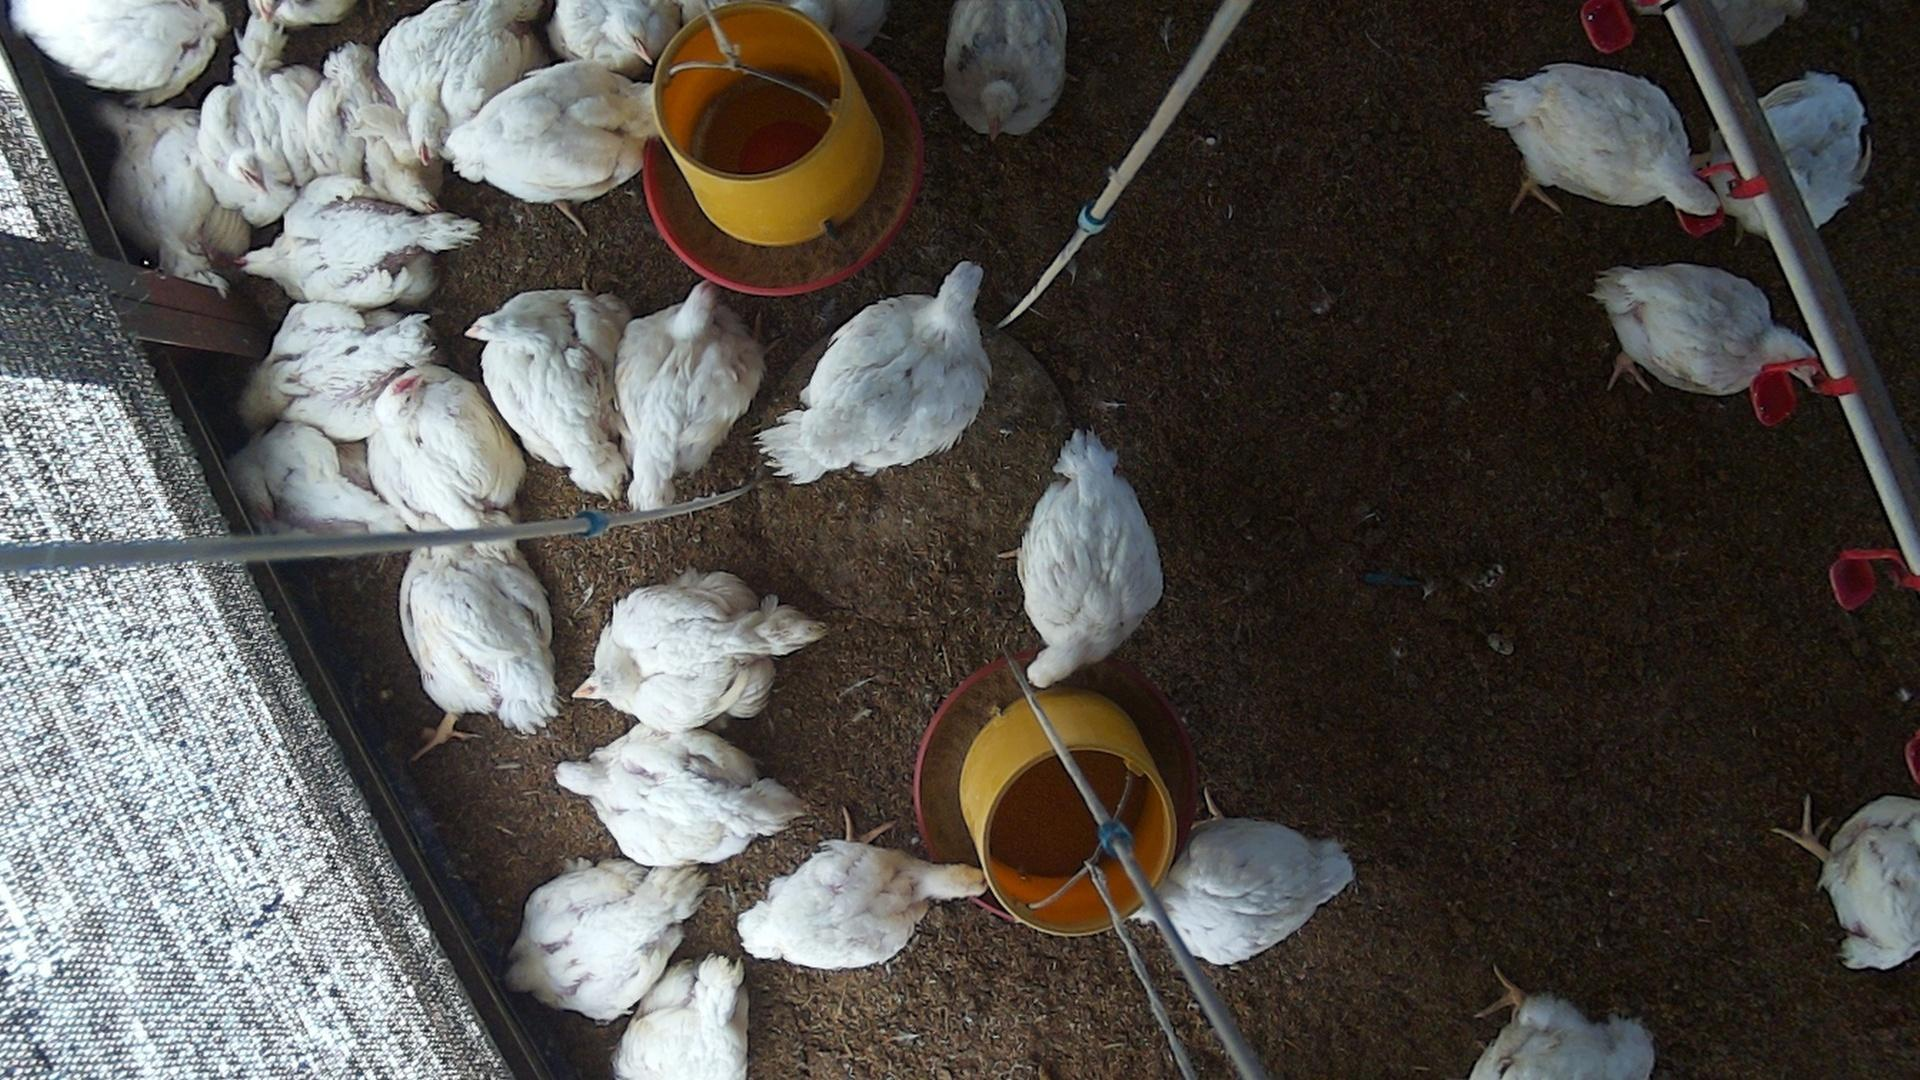ayam_broiler: (767, 262, 989, 480), (990, 427, 1163, 684), (737, 810, 986, 973), (444, 62, 658, 240), (582, 571, 819, 729), (400, 541, 558, 764), (1481, 65, 1718, 210), (1155, 791, 1354, 964), (555, 725, 794, 866), (615, 282, 762, 506), (471, 289, 626, 500), (505, 861, 703, 1021), (1594, 264, 1817, 394), (244, 190, 473, 306), (377, 0, 534, 169), (365, 363, 522, 530), (1775, 789, 1920, 969), (198, 17, 320, 224), (245, 303, 434, 438), (100, 105, 229, 293), (305, 44, 440, 214), (1469, 963, 1655, 1080), (232, 421, 407, 538), (9, 0, 225, 95), (943, 1, 1067, 137), (1762, 73, 1870, 227), (613, 957, 749, 1080), (550, 1, 654, 69)
